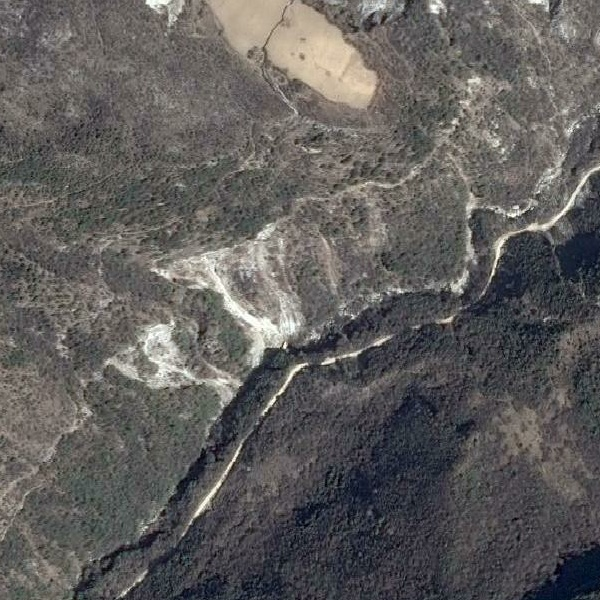slope: (152, 237, 311, 367), (104, 315, 244, 405)
